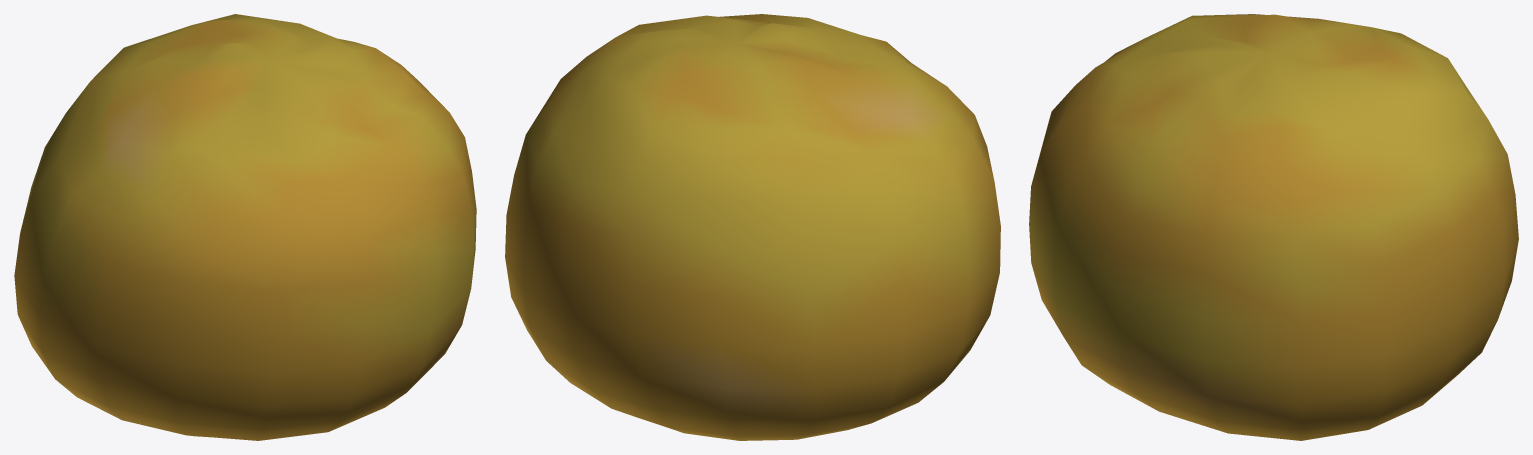
Rendered from Brunch-pao-de-queijo.fbx.
3 views of the same model, side by side, from view 1: azimuth 30°, elevation 25°; view 2: azimuth 150°, elevation 25°; view 3: azimuth 270°, elevation 25° (orthographic). The views are drawn at different scales.
Parts seen in each view (by area): view 1: Brunch-pao-de-queijo; view 2: Brunch-pao-de-queijo; view 3: Brunch-pao-de-queijo.
Part boxes in pixels (x1,y1,x2,y2): Brunch-pao-de-queijo: [14, 14, 476, 440]; Brunch-pao-de-queijo: [505, 14, 1000, 440]; Brunch-pao-de-queijo: [1029, 14, 1518, 440].
Size of the model in its own units: 297 by 227 by 290.
